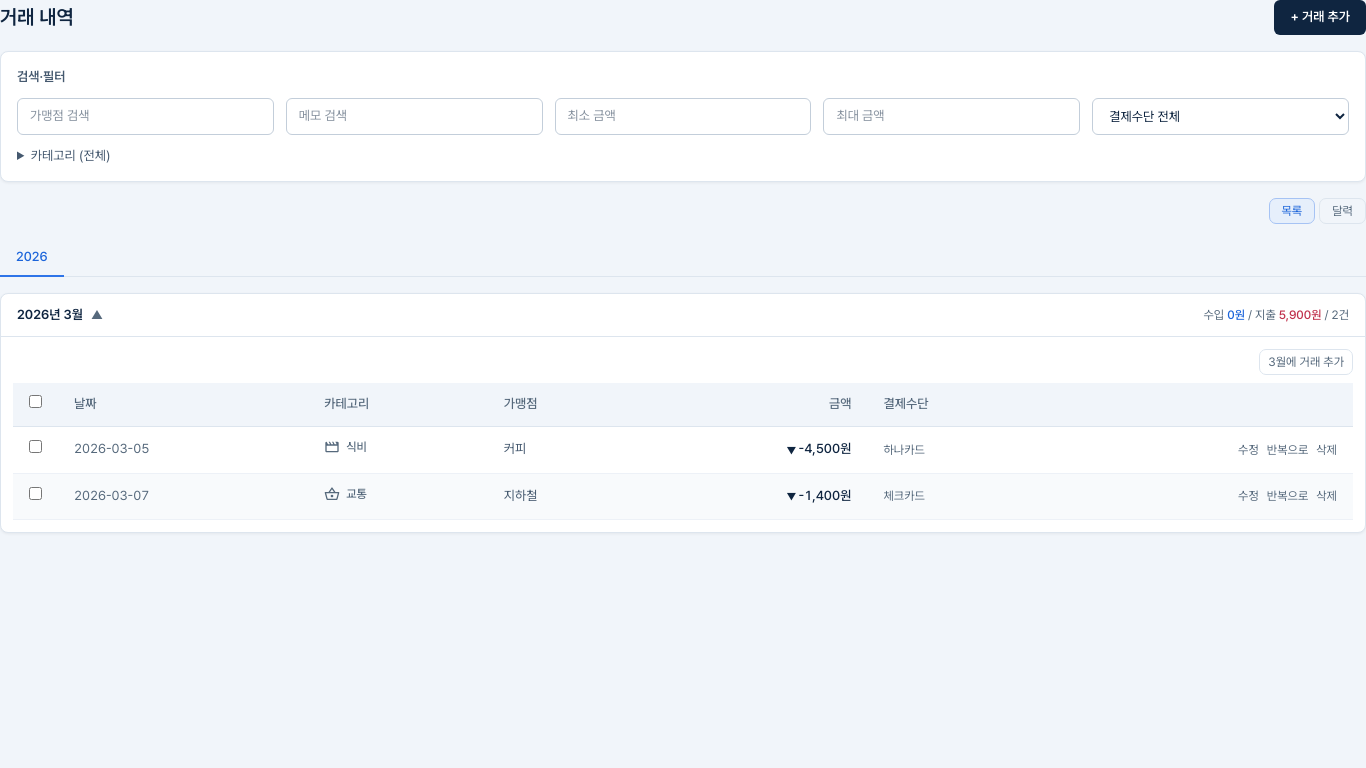
Test: 일괄 삭제 › 지우고 나면 선택을 비우고 목록을 다시 읽는다
Click the checkbox named "2026-03-05 커피 거래 선택" at (36, 447), box [29, 440, 42, 453]
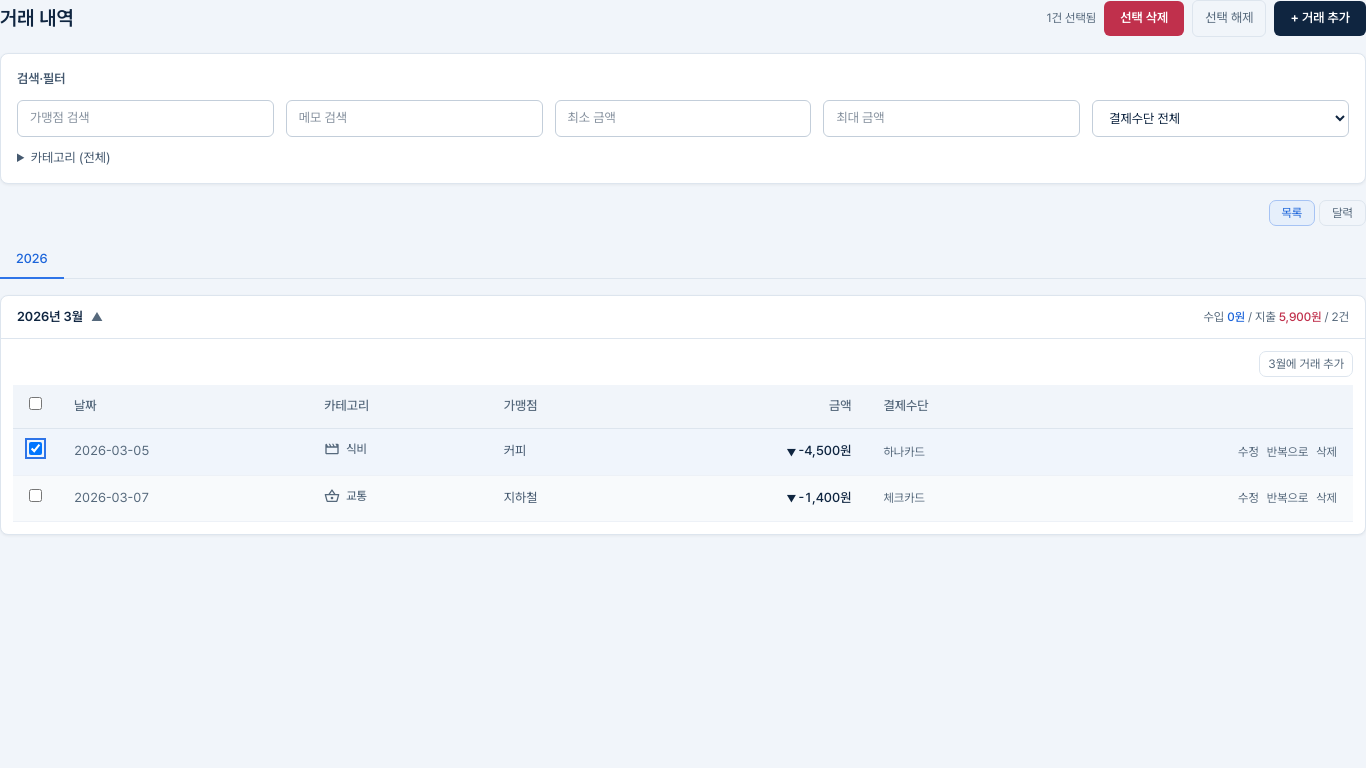
Click the checkbox named "2026-03-07 지하철 거래 선택" at (36, 496), box [29, 489, 42, 502]
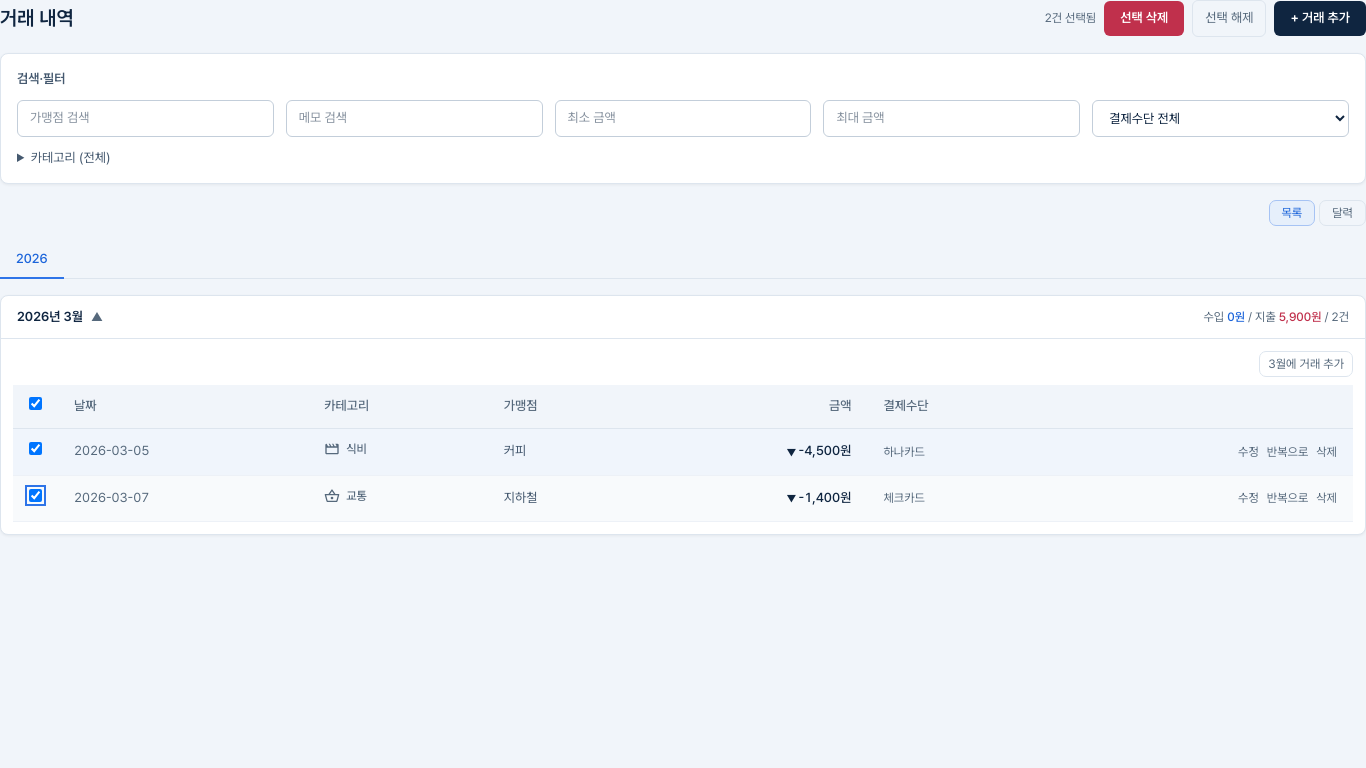
Click the button "선택 삭제" at (1144, 18), box [1104, 1, 1184, 36]
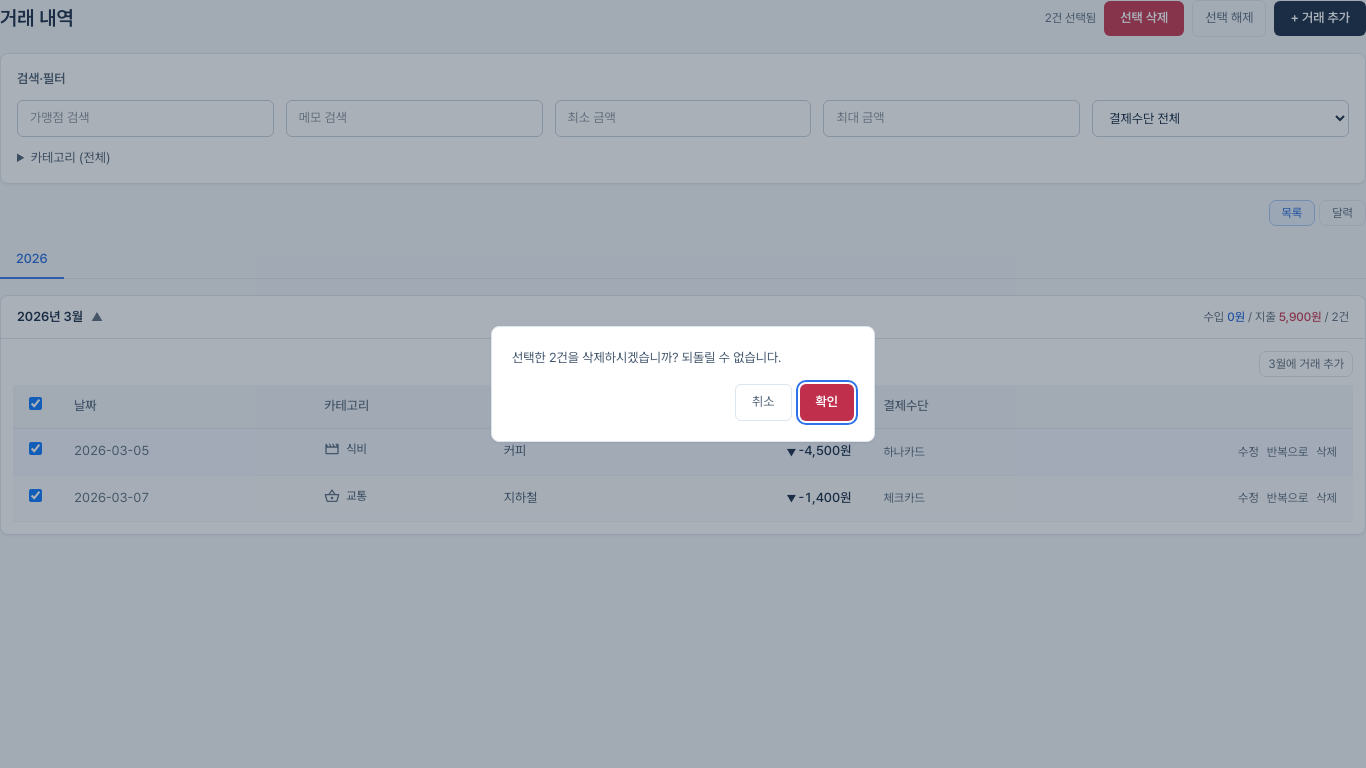
Click the button "확인" at (827, 403), box [800, 384, 854, 421]
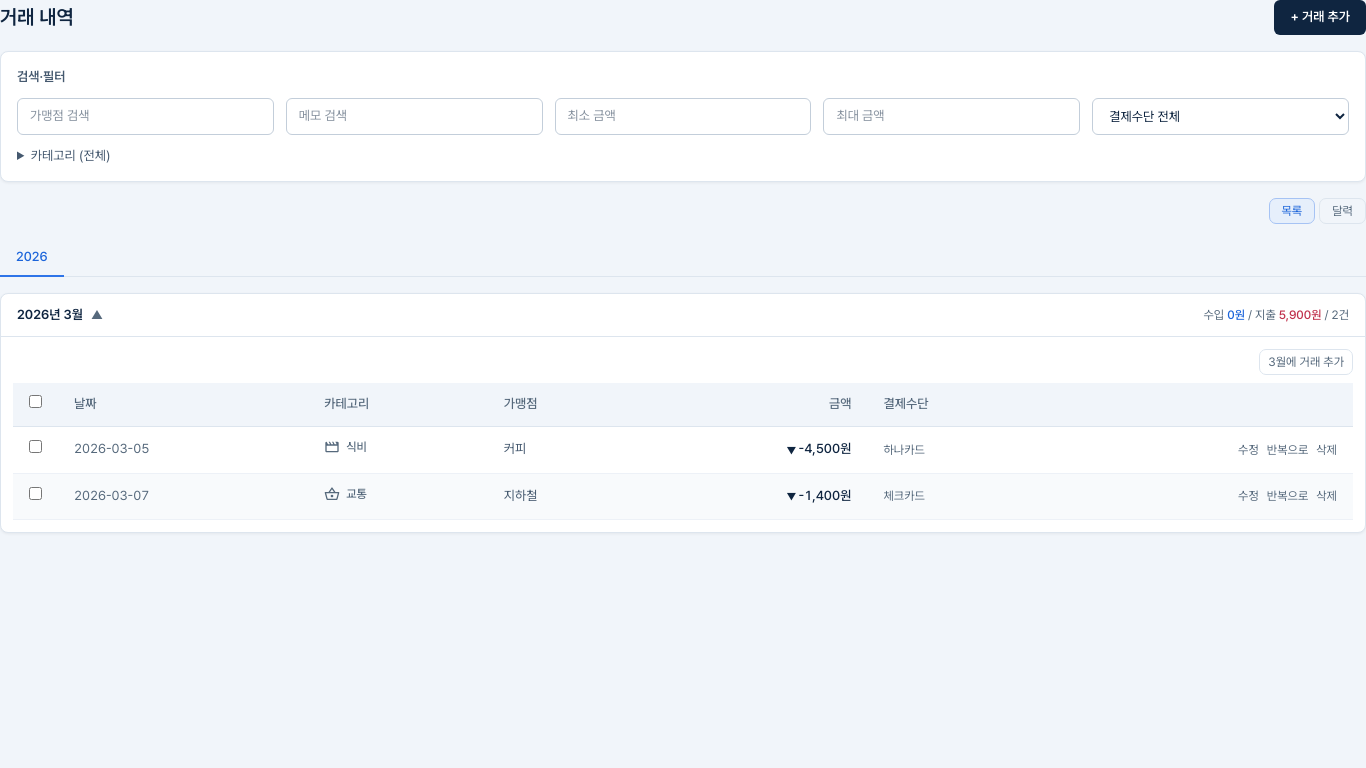
Check: the text "건 선택됨" is gone
